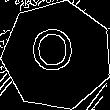O_S: (34, 29, 80, 83)
